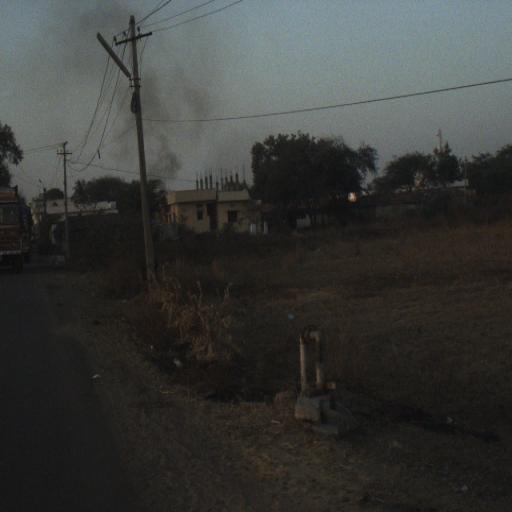street_light_0: (96, 32, 141, 90), (38, 179, 46, 191)
